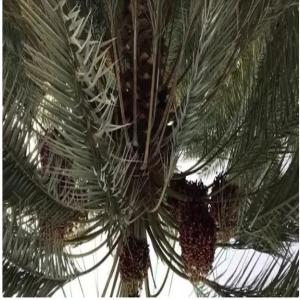palm tree: (2, 0, 298, 297)
